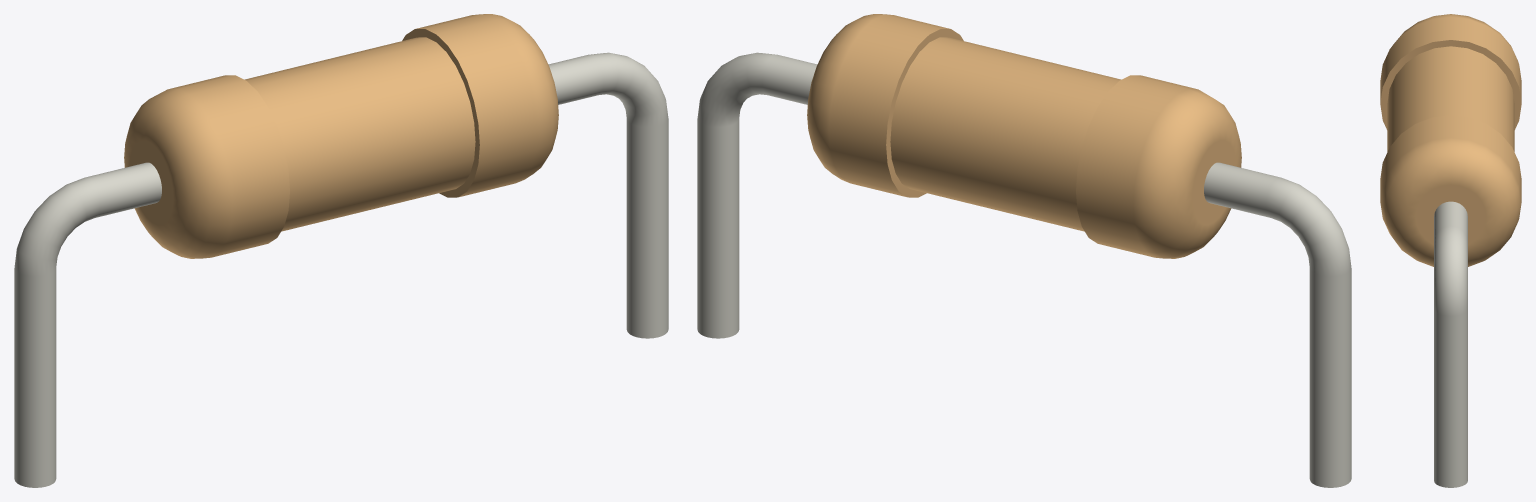
The model's file is R_Axial_DIN0207_L6.3mm_D2.5mm_P10.16mm_Horizontal.glb.
The picture shows the model from 3 angles, left to right: view 1: azimuth 30°, elevation 25°; view 2: azimuth 150°, elevation 25°; view 3: azimuth 270°, elevation 25°; orthographic projection. The views are drawn at different scales.
Visible parts, largest first — view 1: =>[0:1:1:3]; view 2: =>[0:1:1:3]; view 3: =>[0:1:1:3].
Boxes of the visible parts, x1,y1,x2,y2 form: =>[0:1:1:3]: (14, 14, 668, 487); =>[0:1:1:3]: (697, 14, 1351, 487); =>[0:1:1:3]: (1380, 14, 1521, 487).
Size of the model in its own units: 0.0108 by 0.0055 by 0.0025.
